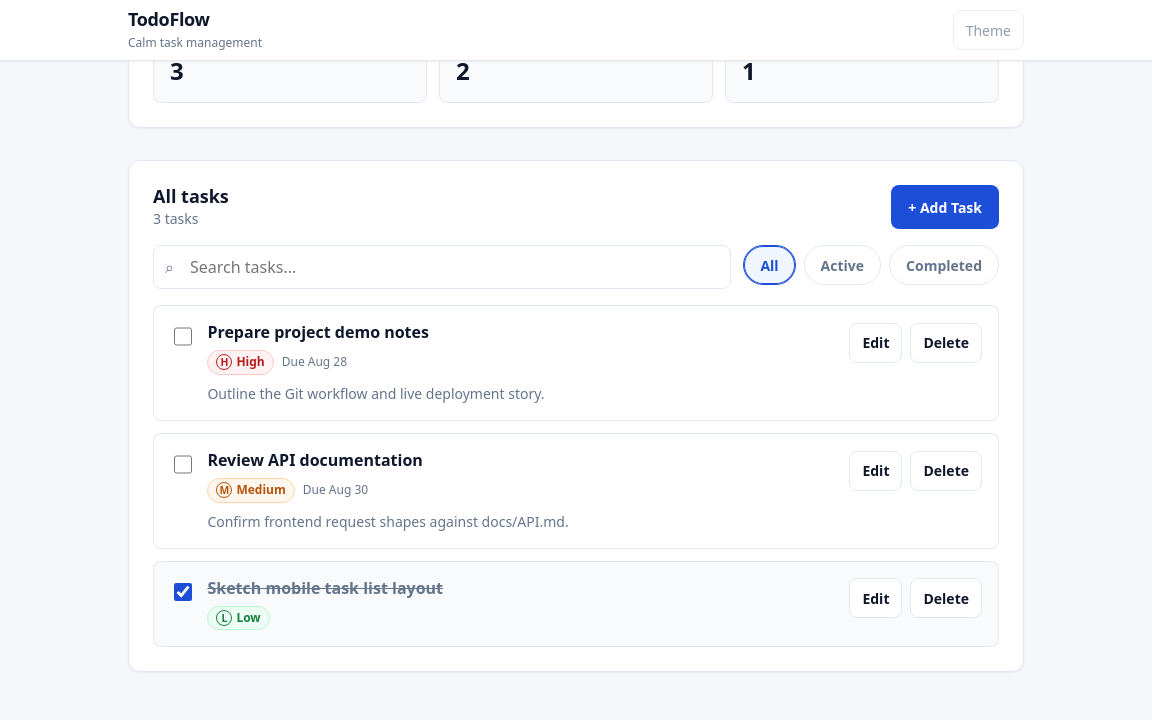
Scenario: TodoFlow App › confirms delete through the API and can cancel deletion
(page scrolled)
Expected: the text "Prepare project demo notes" is shown, [207,321,429,343]
What coordinates should you click on to do the following:
click the button with aria-label "Delete task “Review API documentation”"
I would click on:
 (946, 471)
Its box is [910,451,982,491].
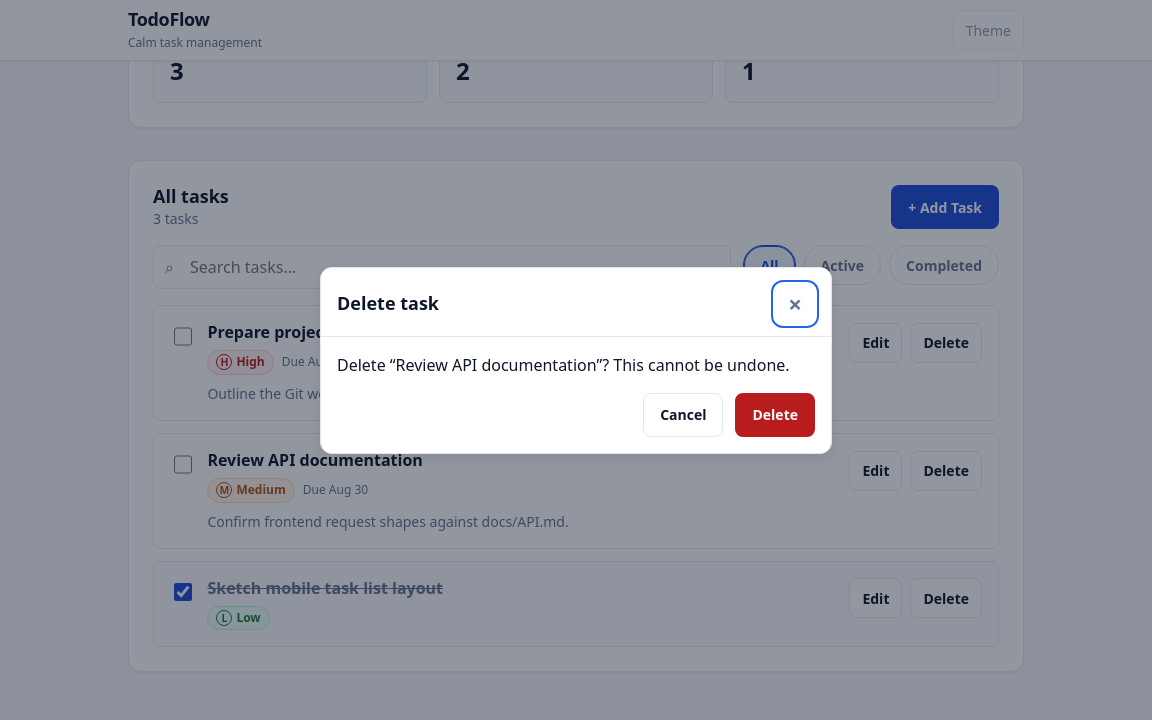
Expected: the dialog "Delete task" shows "Review API documentation", [337,354,790,376]
What coordinates should you click on to do the following:
click the button "Cancel"
I would click on:
 (683, 414)
Its box is [643,392,724,436].
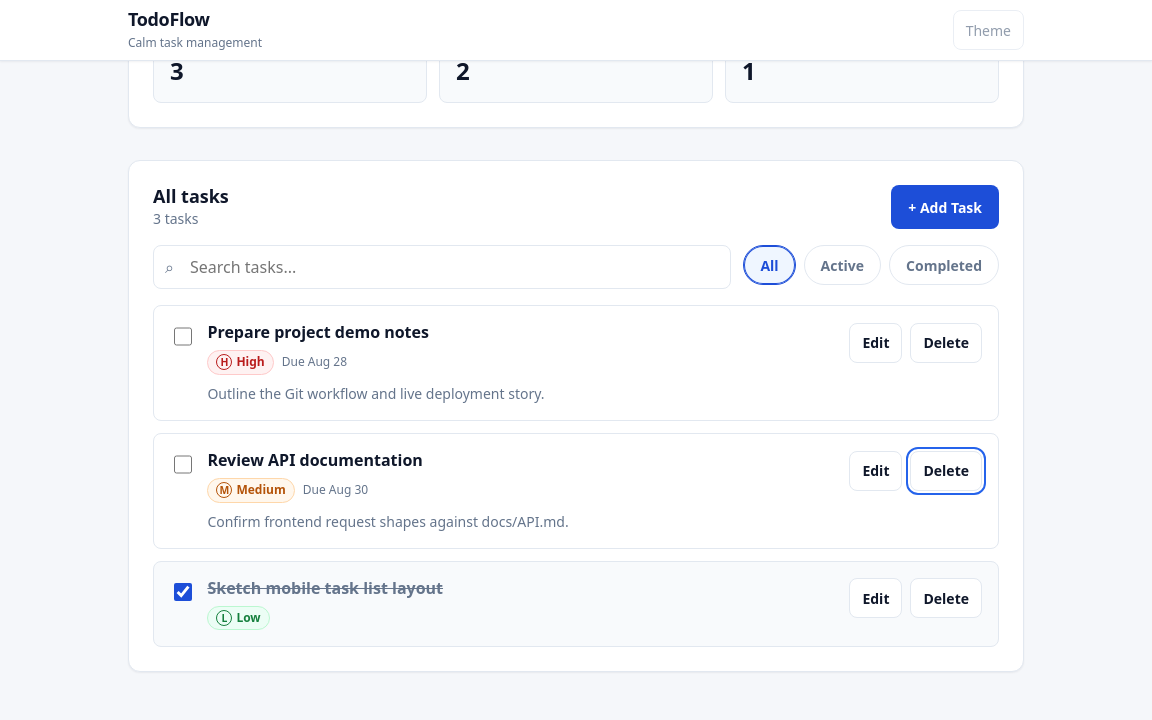
Expected: the text "Review API documentation" is shown, [207,449,423,471]
Expected: the text named "Total: 3" is shown, [170,54,184,87]
What coordinates should you click on to do the following:
click the button with aria-label "Delete task “Review API documentation”"
I would click on:
 (946, 471)
Its box is [910,451,982,491].
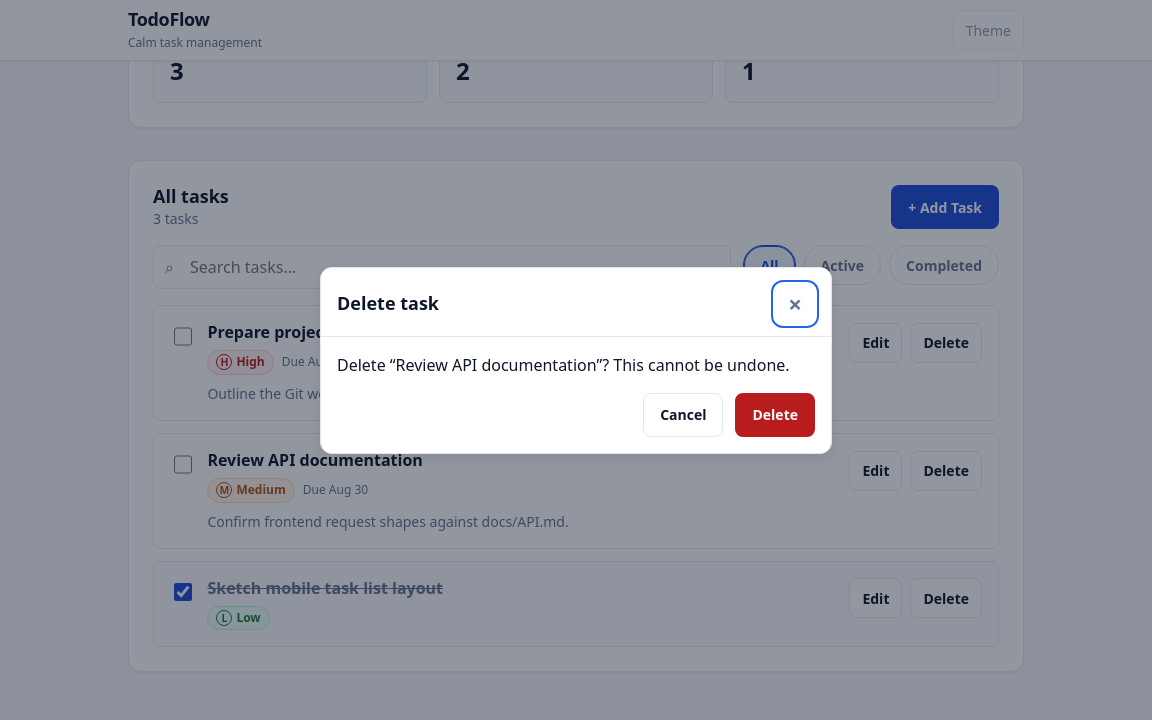
What coordinates should you click on to do the following:
click the button "Delete"
I would click on:
 (775, 414)
Its box is [736,392,815,436].
(page scrolled)
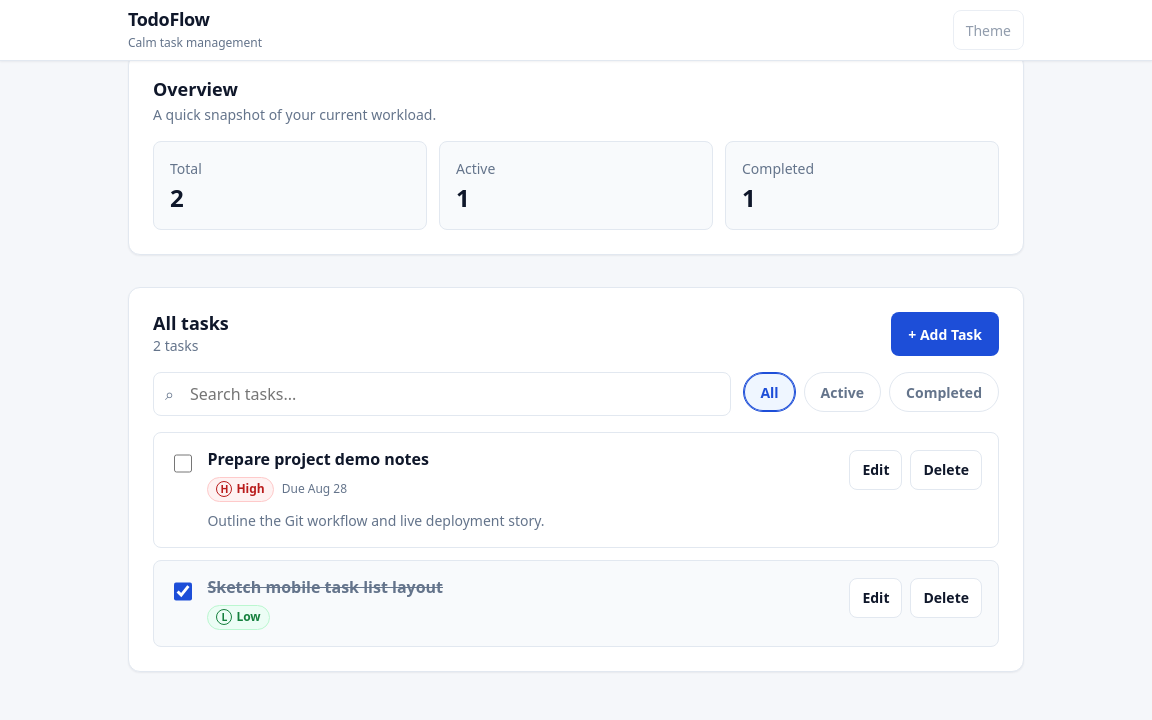
Expected: the text "Review API documentation" is gone
Expected: the text named "Total: 2" is shown, [170,181,184,214]
